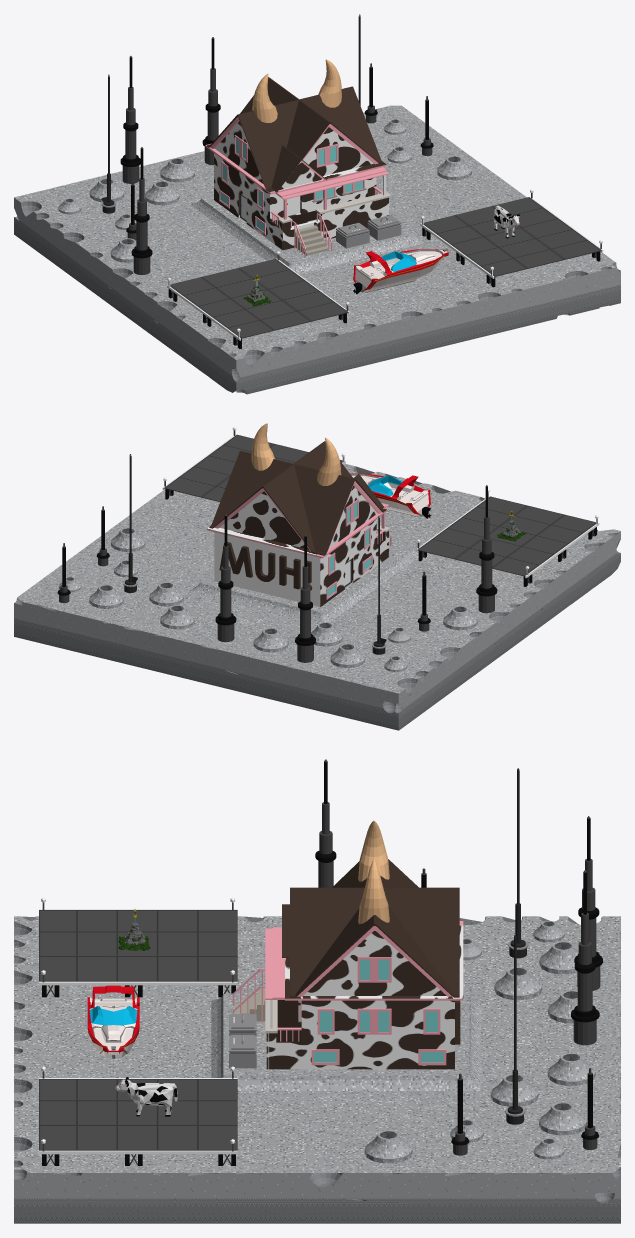
3 renders of one model, top to bottom at view 1: azimuth 30°, elevation 25°; view 2: azimuth 150°, elevation 25°; view 3: azimuth 270°, elevation 25°, orthographic. The views are drawn at different scales.
Visible parts, largest first — view 1: Cube.027, Cube.1242, Cube.025, Cube.026, Cube.028, VEHICLES_BOAT, Cylinder.021, Cylinder.020, Cylinder.017, Cube.029, Cube.030, Cylinder.027 (+4 smaller); view 2: Cube.027, Cube.1242, Cube.025, Cube.028, Cube.026, VEHICLES_BOAT, Cylinder.017, Cylinder.021, Cylinder.020, Cylinder.028, Cylinder.027, Cylinder.029 (+7 smaller); view 3: Cube.027, Cube.1242, Cube.025, Cube.026, Cube.028, VEHICLES_BOAT, Cylinder.017, Cylinder.020, ANIMAL_VACA, Cylinder.021, Cylinder.033, Cylinder.031 (+10 smaller).
Boxes of the visible parts, <box> form: Cube.027: <box>14,105,620,394</box>; Cube.1242: <box>205,59,391,256</box>; Cube.025: <box>167,251,349,348</box>; Cube.026: <box>420,189,603,287</box>; Cube.028: <box>191,195,424,273</box>; VEHICLES_BOAT: <box>353,248,448,294</box>; Cylinder.021: <box>131,147,152,274</box>; Cylinder.020: <box>120,56,140,183</box>; Cylinder.017: <box>202,37,220,165</box>; Cube.029: <box>336,222,369,248</box>; Cube.030: <box>367,215,401,240</box>; Cylinder.027: <box>160,158,194,182</box>; Cube.027: <box>14,463,620,730</box>; Cube.1242: <box>206,423,391,607</box>; Cube.025: <box>416,489,599,586</box>; Cube.028: <box>189,541,418,623</box>; Cube.026: <box>162,427,345,501</box>; VEHICLES_BOAT: <box>350,473,431,518</box>; Cylinder.017: <box>215,514,236,642</box>; Cylinder.021: <box>476,485,497,613</box>; Cylinder.020: <box>295,534,315,662</box>; Cylinder.028: <box>330,643,365,667</box>; Cylinder.027: <box>253,628,288,652</box>; Cylinder.029: <box>160,605,194,629</box>; Cube.027: <box>14,916,620,1223</box>; Cube.1242: <box>232,820,463,1069</box>; Cube.025: <box>39,897,237,997</box>; Cube.026: <box>39,1066,237,1165</box>; Cube.028: <box>211,993,481,1090</box>; VEHICLES_BOAT: <box>87,985,139,1058</box>; Cylinder.017: <box>571,870,599,1045</box>; Cylinder.020: <box>574,816,602,990</box>; ANIMAL_VACA: <box>115,1077,177,1116</box>; Cylinder.021: <box>315,759,336,887</box>; Cylinder.033: <box>364,1130,412,1163</box>; Cylinder.031: <box>539,1102,586,1135</box>.
Size of the model in its own units: 4000 by 1937 by 4000.
39 materials, 4 textured.
